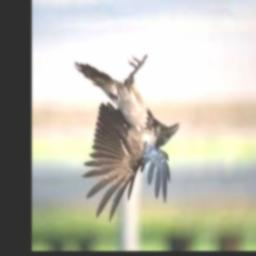Crow: (73, 55, 179, 223)
